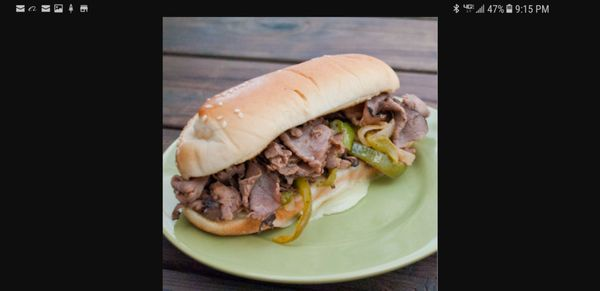soup: (171, 53, 432, 242)
